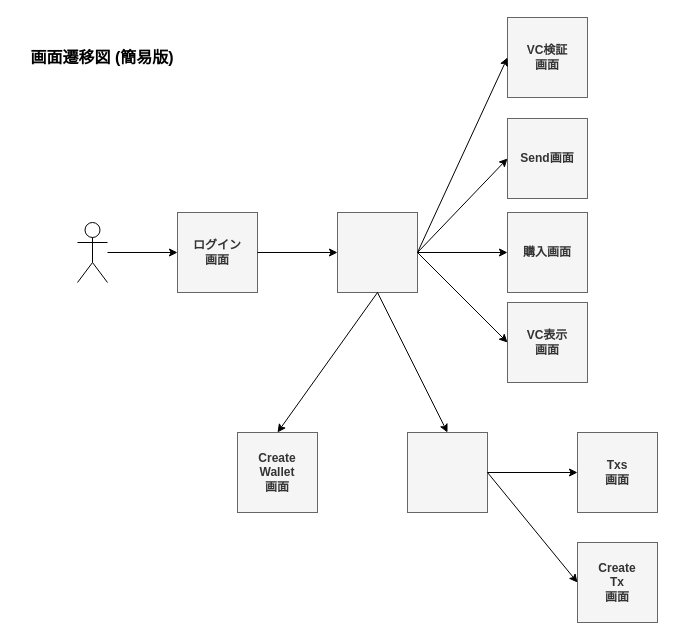
Some shapes in this 675 by 640 pixel diagram are drawn without their labels. Here are the shapes that lost their labels. From the top down, the box of each, then its label:
(76, 222, 108, 282): ユーザー
(336, 212, 418, 292): Home 画面
(406, 432, 488, 512): Wallets 画面
